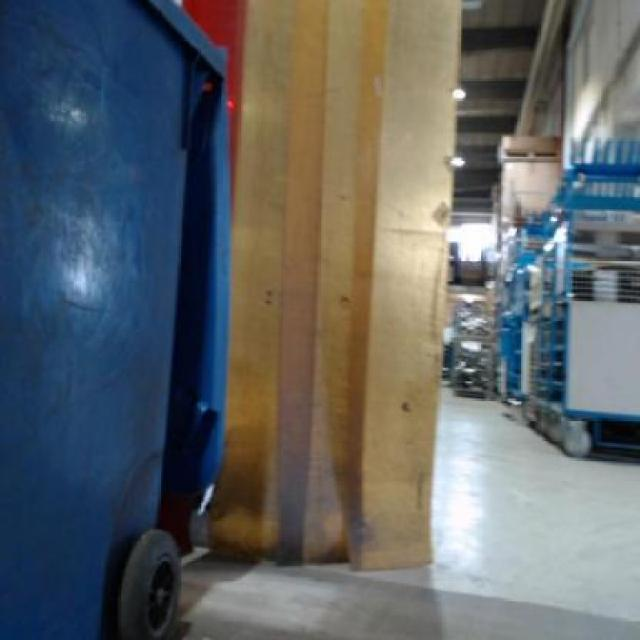ground: (170, 386, 638, 638)
pallet: (489, 139, 566, 162)
